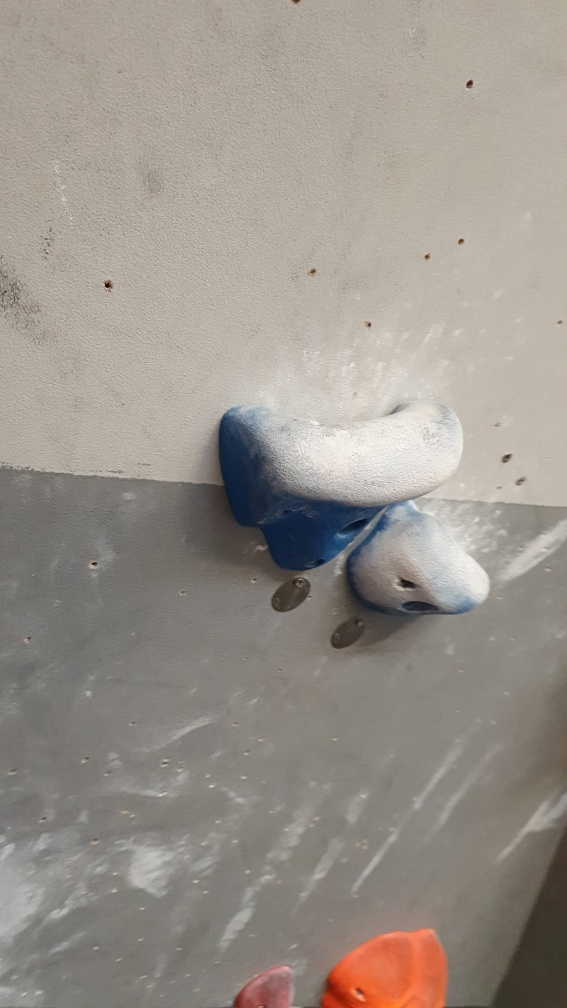Hand Start: (271, 571, 313, 618), (323, 613, 370, 650)
Jug: (215, 391, 467, 572), (338, 497, 494, 628)
